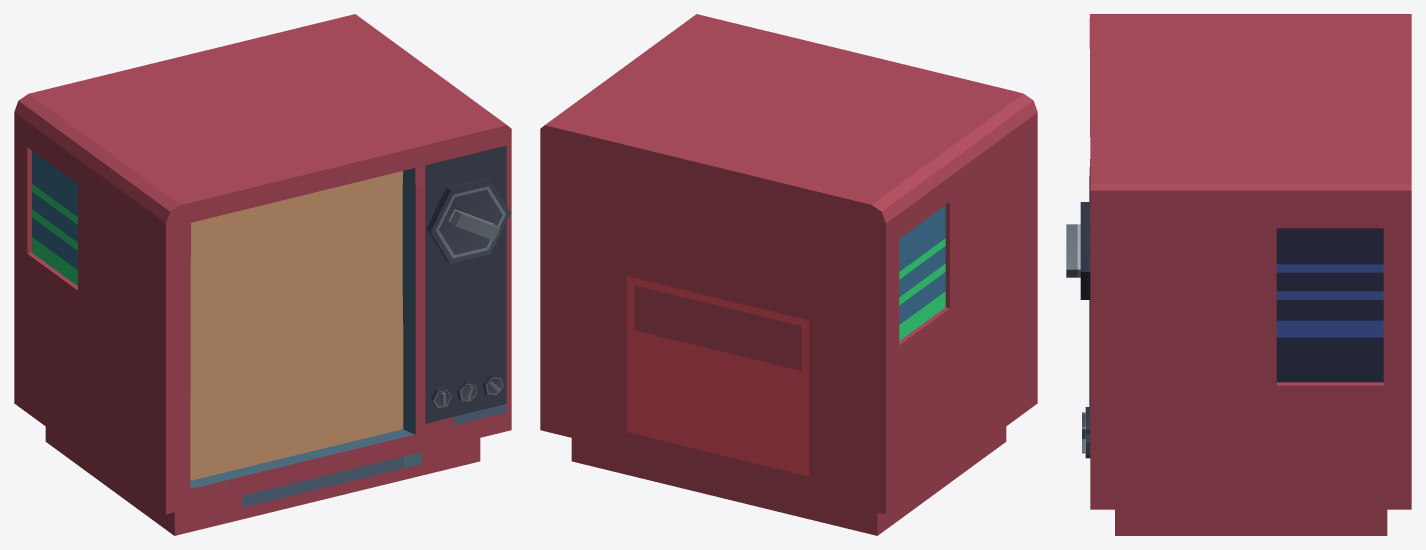
The model's file is Prop_TV03.fbx.
3 renders of one model, left to right at view 1: azimuth 30°, elevation 25°; view 2: azimuth 150°, elevation 25°; view 3: azimuth 270°, elevation 25°, orthographic. The views are drawn at different scales.
Parts seen in each view (by area): view 1: Cube.430; view 2: Cube.430; view 3: Cube.430.
Boxes of the visible parts, bbox=[...] form: Cube.430: bbox=[14, 14, 511, 535]; Cube.430: bbox=[540, 14, 1037, 535]; Cube.430: bbox=[1066, 14, 1411, 535].
Size of the model in its own units: 55.14 by 51.95 by 45.12.
